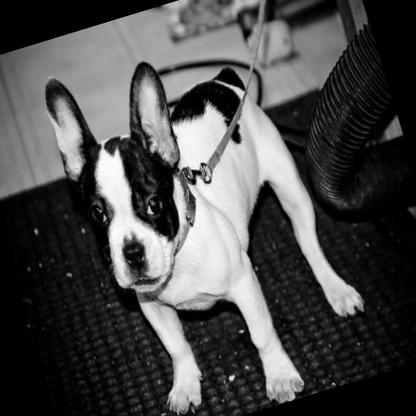French_bulldog: (35, 8, 385, 416)
